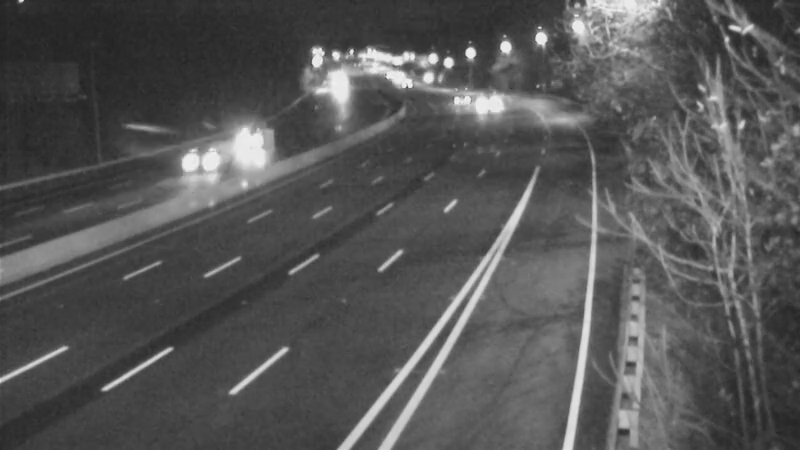vehicle: (156, 121, 236, 201), (428, 75, 478, 125), (458, 83, 508, 133), (214, 117, 264, 167)
